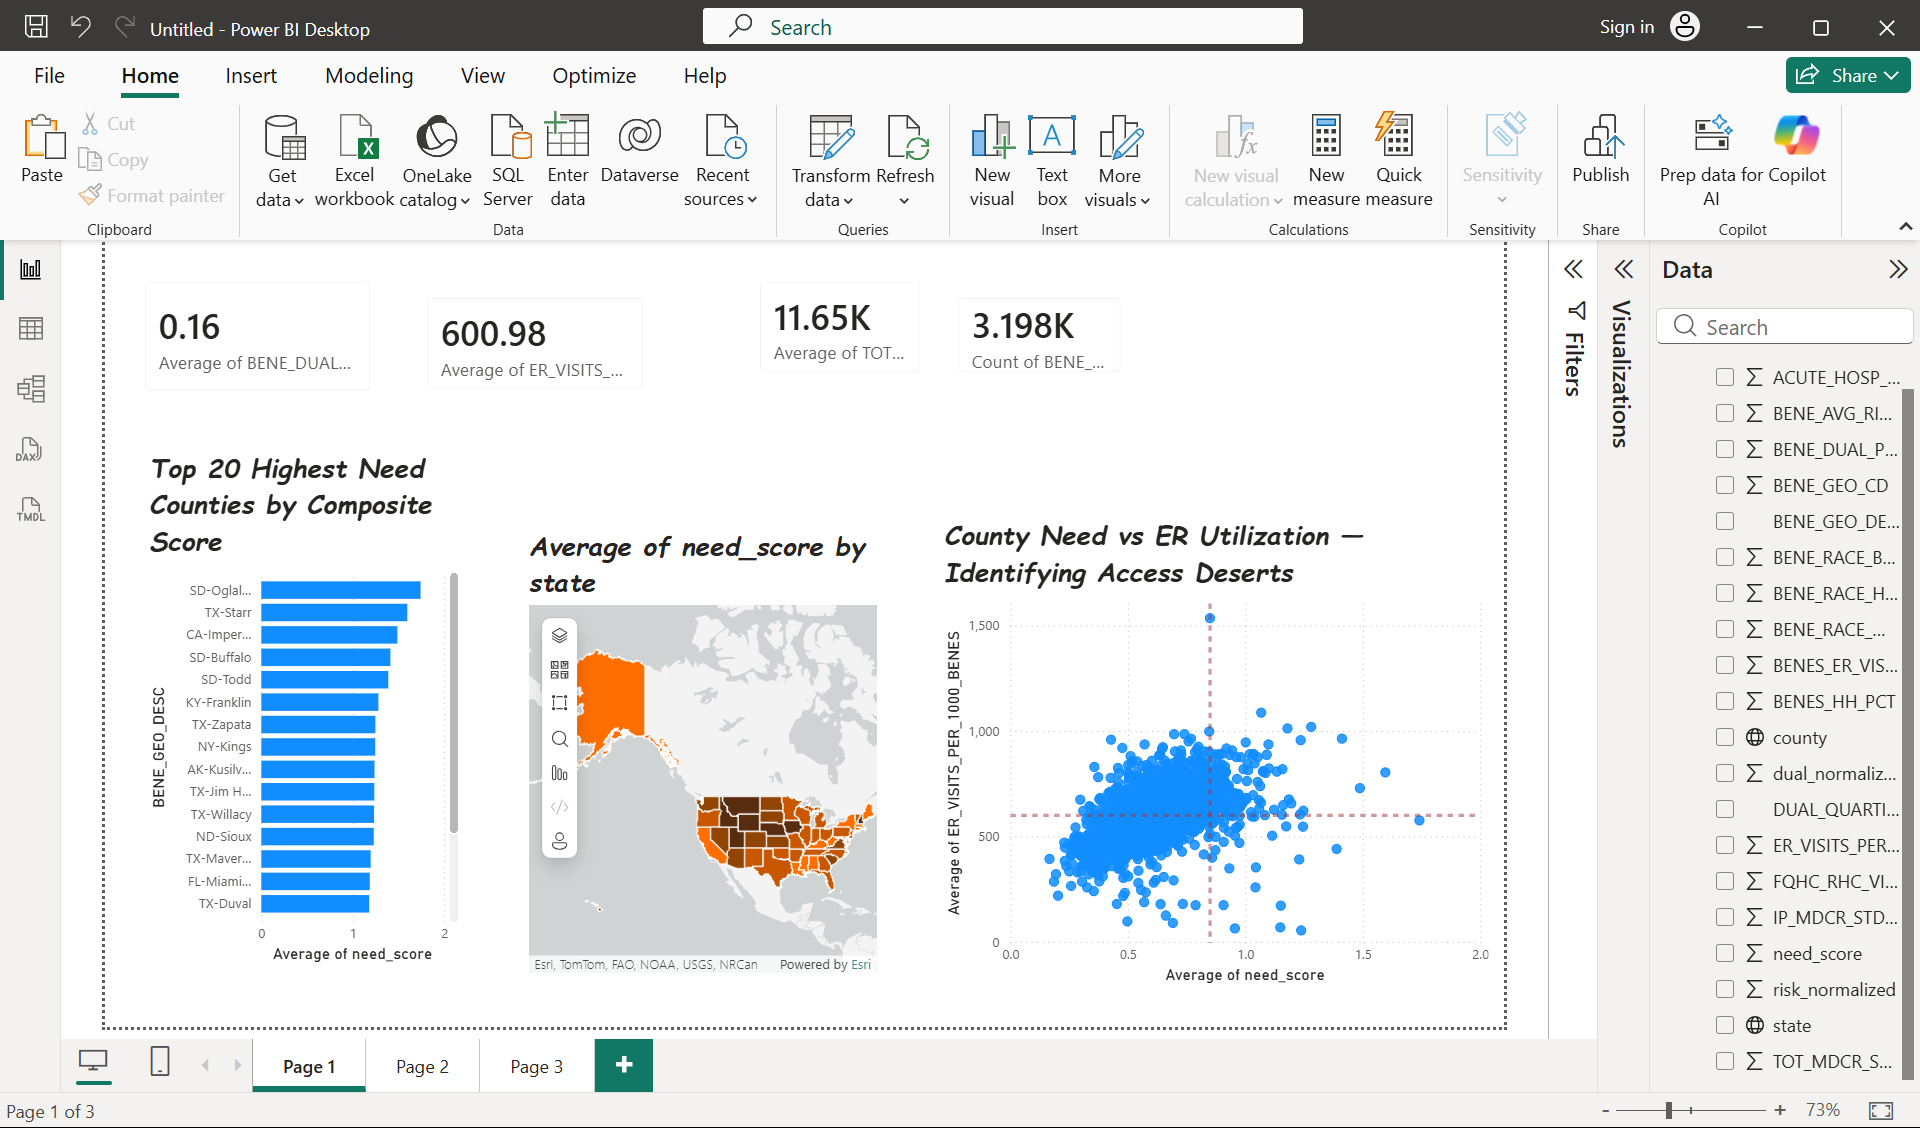

What the dashboard file says about the page in this screenshot:
{"tool":"powerbi","page":{"name":"Page 1","canvas":[1280,720],"ordinal":0},"visuals":[{"type":"cardVisual","fields":{"Data":["Avg(cms_county_processed.BENE_DUAL_PCT)"]},"box":[18.9,20.8,240,134.2],"z":0},{"type":"cardVisual","fields":{"Data":["Avg(cms_county_processed.ER_VISITS_PER_1000_BENES)"]},"box":[277.8,35.9,232.4,117.2],"z":1000},{"type":"cardVisual","fields":{"Data":["Avg(cms_county_processed.TOT_MDCR_STDZD_PYMT_PC)"]},"box":[582.1,20.8,181.4,117.2],"z":2000},{"type":"cardVisual","fields":{"Data":["CountNonNull(cms_county_processed.BENE_GEO_CD)"]},"box":[763.5,35.9,183.3,102],"z":3000},{"type":"clusteredBarChart","title":"Top 20 Highest Need Counties by Composite Score","fields":{"Category":["cms_county_processed.BENE_GEO_DESC"],"Y":["Avg(cms_county_processed.need_score)"]},"box":[35.7,190.8,292.3,474.8],"z":4000},{"type":"esriVisual","fields":{"Location":["cms_county_processed.state"],"Color":["Avg(cms_county_processed.need_score)"]},"box":[382.9,262.1,328,413.1],"z":5000},{"type":"scatterChart","title":"County Need vs ER Utilization — Identifying Access Deserts","fields":{"X":["Avg(cms_county_processed.need_score)"],"Y":["Avg(cms_county_processed.ER_VISITS_PER_1000_BENES)"],"Category":["cms_county_processed.BENE_GEO_DESC"]},"box":[763,252.5,507.8,432.3],"z":5001}]}

Visuals, with their boxes on the page's 1280x720 design canvas (x1, y1, x2, y2). These are canvas units, not pixel positions in the 1920x1128 screenshot, which may show the page scaled, cropped or inside an application window:
cardVisual - Avg(cms_county_processed.BENE_DUAL_PCT): x1=19 y1=21 x2=259 y2=155
cardVisual - Avg(cms_county_processed.ER_VISITS_PER_1000_BENES): x1=278 y1=36 x2=510 y2=153
cardVisual - Avg(cms_county_processed.TOT_MDCR_STDZD_PYMT_PC): x1=582 y1=21 x2=764 y2=138
cardVisual - CountNonNull(cms_county_processed.BENE_GEO_CD): x1=764 y1=36 x2=947 y2=138
"Top 20 Highest Need Counties by Composite Score" clusteredBarChart: x1=36 y1=191 x2=328 y2=666
esriVisual - cms_county_processed.state x Avg(cms_county_processed.need_score): x1=383 y1=262 x2=711 y2=675
"County Need vs ER Utilization — Identifying Access Deserts" scatterChart: x1=763 y1=252 x2=1271 y2=685
